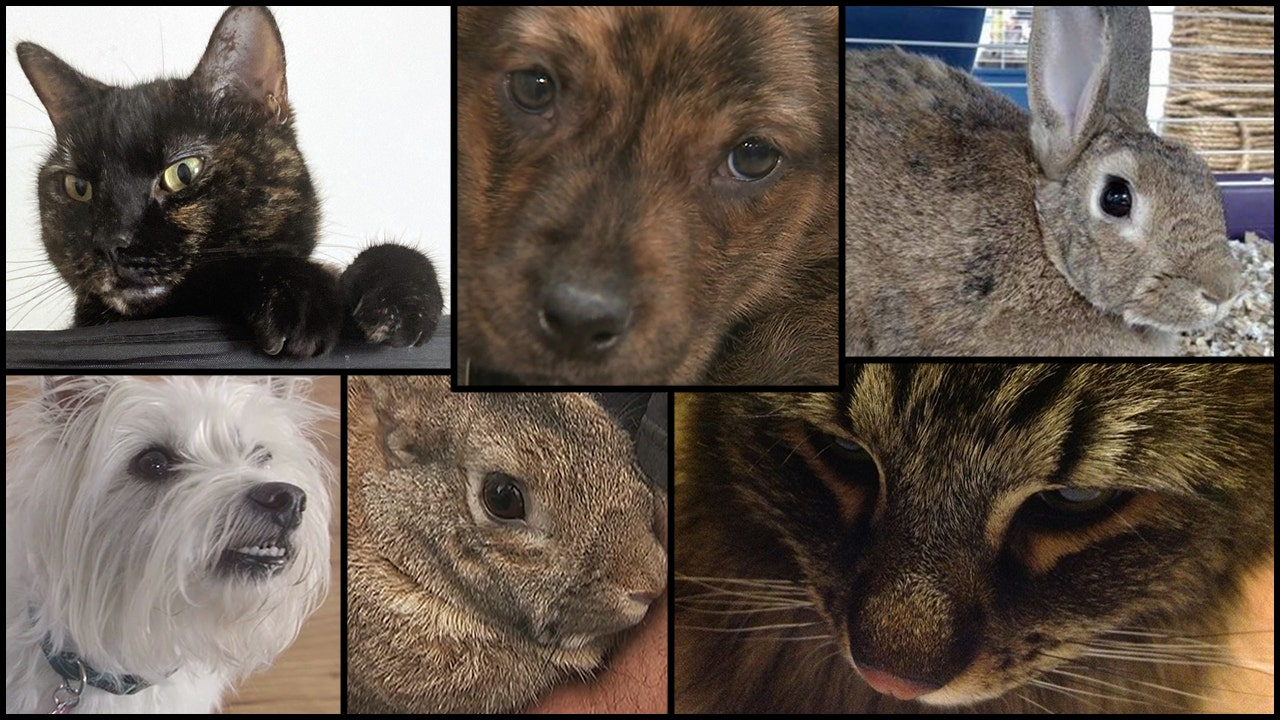cat: (16, 25, 412, 363)
dog: (13, 384, 287, 690)
rabbit: (895, 13, 1268, 358)
